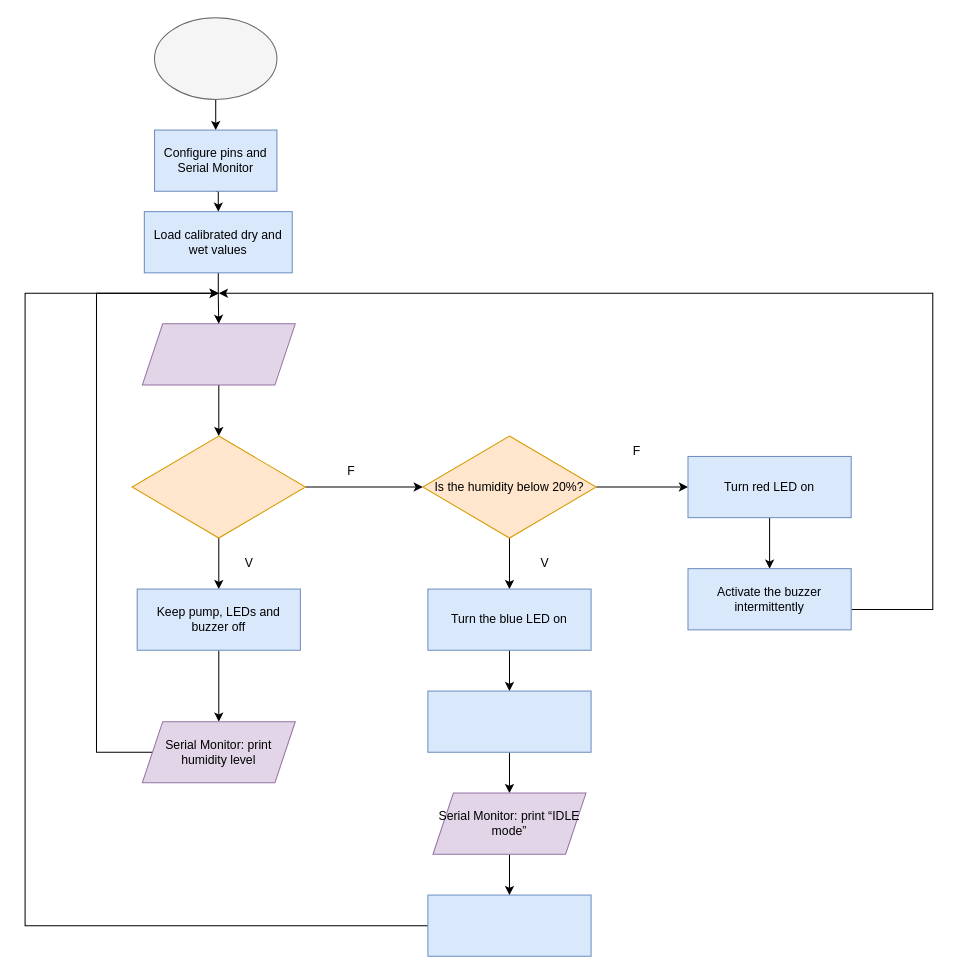
The diagram is 959 pixels wide and 974 high, and some of its shapes have lost their labels. The box of each missing label's shape, as (x1, y1, x2, y2) in pixels:
Is the humidity between 20% and 75%?: (131, 435, 305, 538)
Read humidity: (141, 323, 295, 385)
Start: (154, 17, 277, 99)
Turn the pump off and pause the system for 15 seconds: (427, 894, 591, 956)
Turn the water pump on for 10 seconds: (427, 690, 591, 752)
